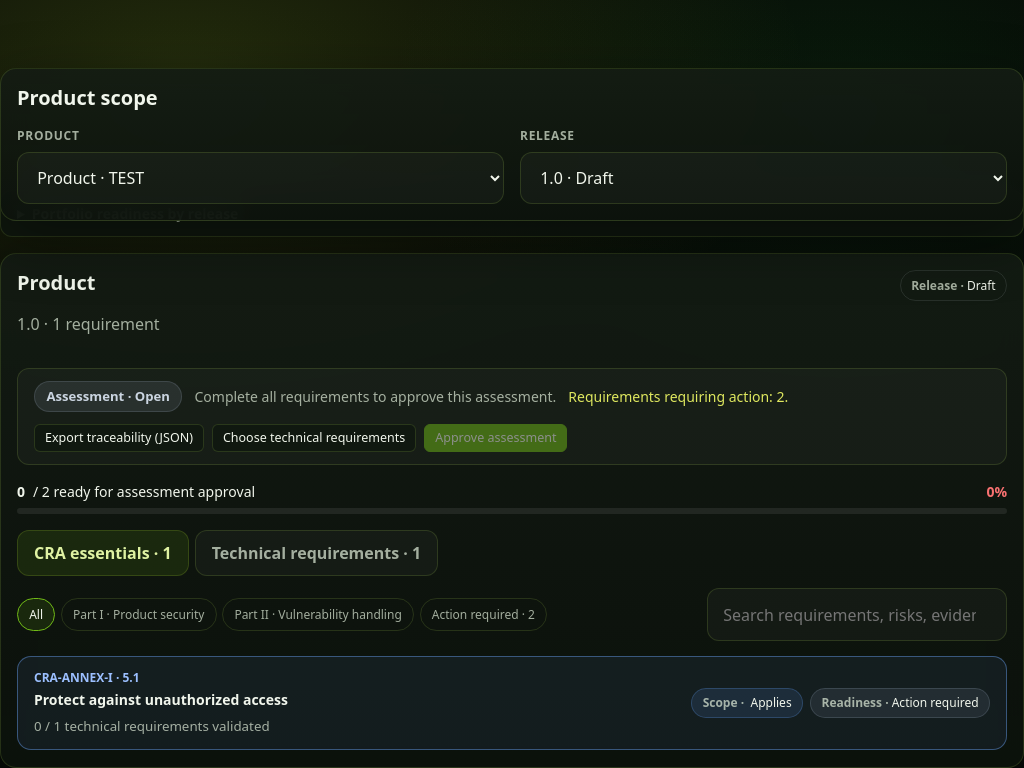
Test: Release requirement traceability › starts with CRA essentials and lets users follow technical work and return to the objective
(page scrolled)
Click the button that starts with "CRA-ANNEX-I · 5.1".
click(87, 677)  # box [17,656,1007,750]
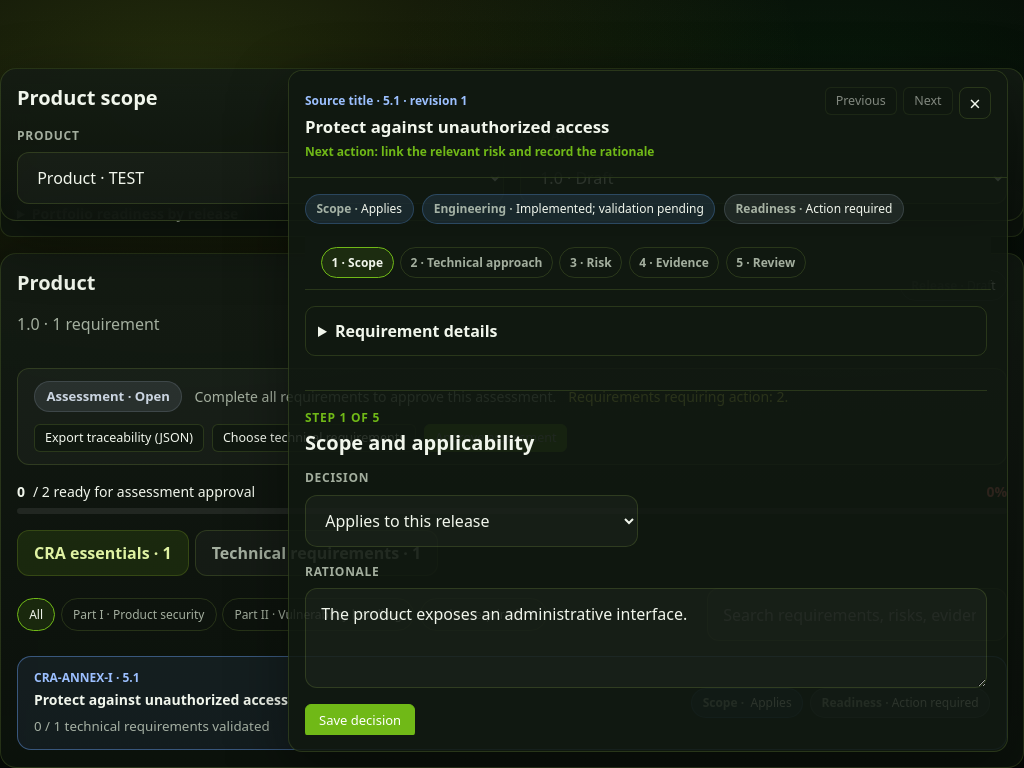
expect the button "2 · Technical approach" is shown: met
Click the button "2 · Technical approach".
click(477, 263)  # box [400,247,553,278]
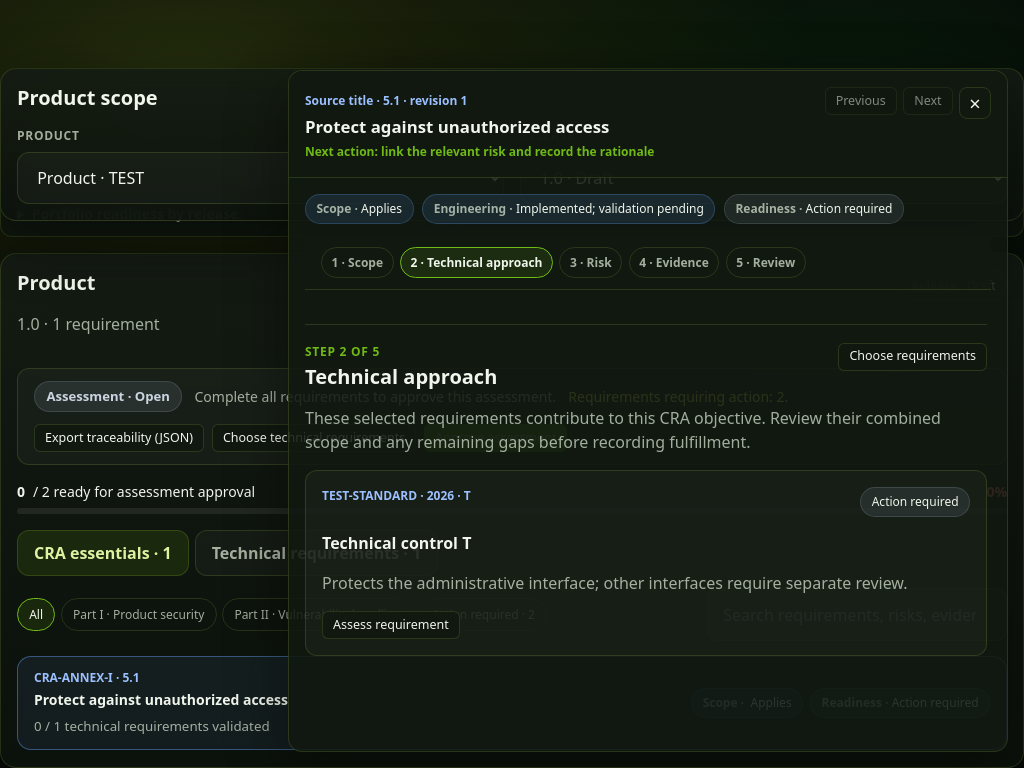
expect the element with class "supporting-requirement-card" shows "administrative interface": met, box [322,572,908,594]
expect the button "Assess requirement" is shown: met
Click the button "Assess requirement".
click(391, 625)  # box [322,611,460,639]
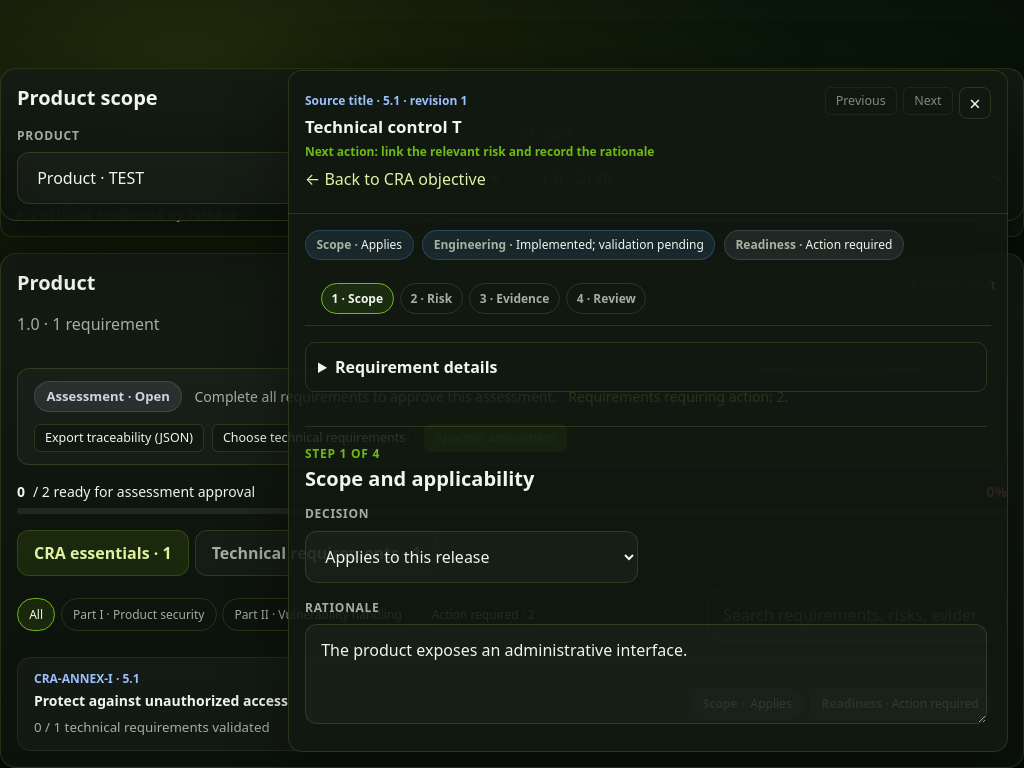
expect the heading "Technical control T" is shown: met, box [305,115,462,138]
expect the button "← Back to CRA objective" is shown: met
Click the button "← Back to CRA objective".
click(395, 179)  # box [305,161,486,197]
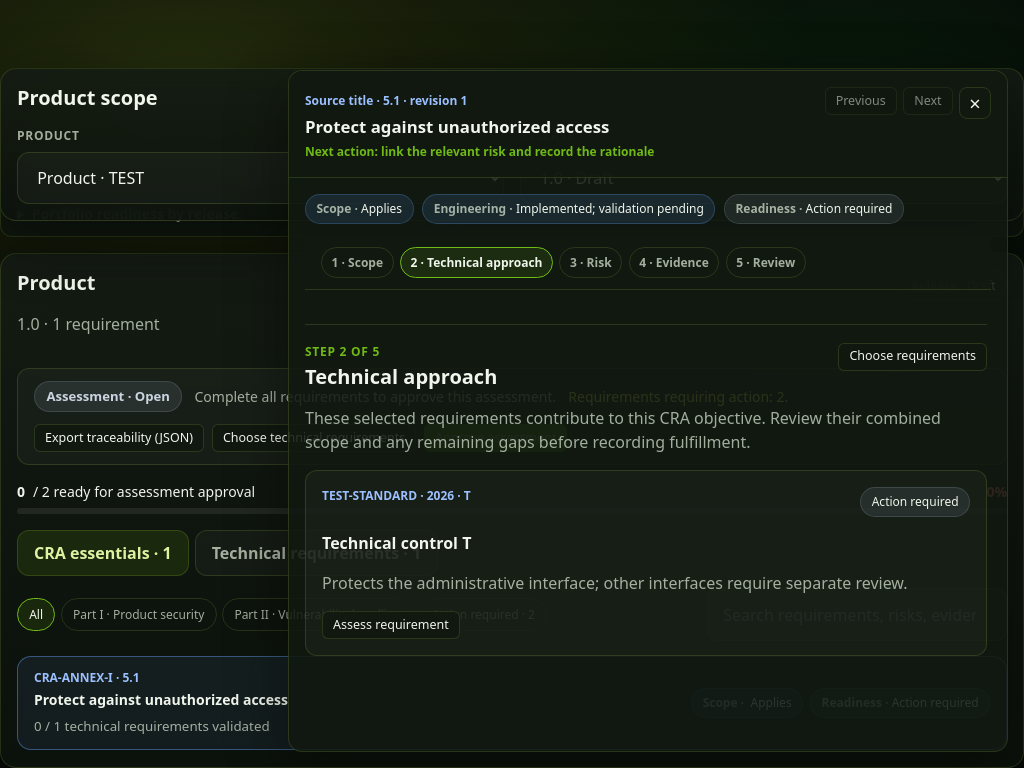
expect the heading "Protect against unauthorized access" is shown: met, box [305,114,654,139]
expect the button "2 · Technical approach" is shown: met, box [400,247,553,278]
